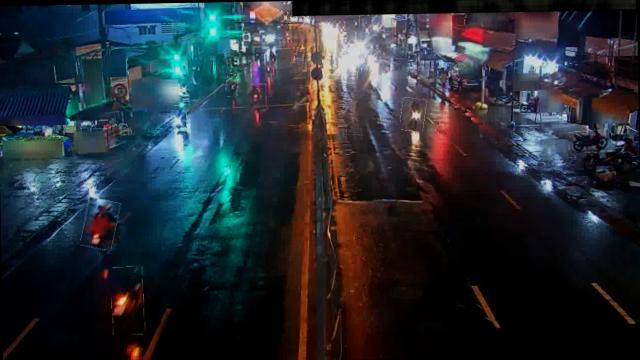Bike: (112, 266, 144, 335), (82, 198, 119, 250), (568, 130, 612, 153), (400, 98, 426, 131), (251, 84, 266, 106), (174, 106, 186, 132), (226, 74, 238, 97)
